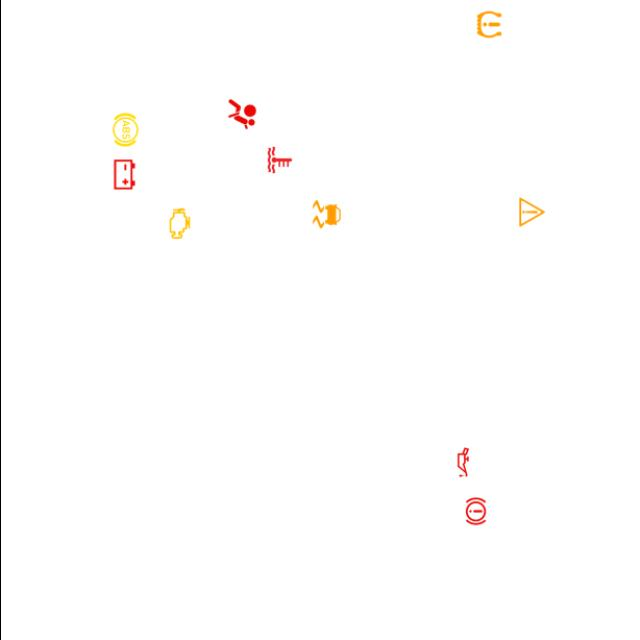Anti Lock Braking System: (106, 112, 142, 148)
Braking System Issue: (457, 493, 493, 530)
Charging System Issue: (105, 156, 142, 192)
Check Engine: (161, 206, 197, 242)
Electronic Stability Problem -ESP-: (307, 196, 343, 232)
Engine Overheating Warning Light: (261, 142, 297, 178)
Low Engine Oil Warning Light: (444, 444, 480, 480)
Low Tire Pressure Warning Light: (471, 7, 506, 42)
Master warning light: (513, 194, 549, 230)
SRS-Airbag: (223, 96, 260, 132)
